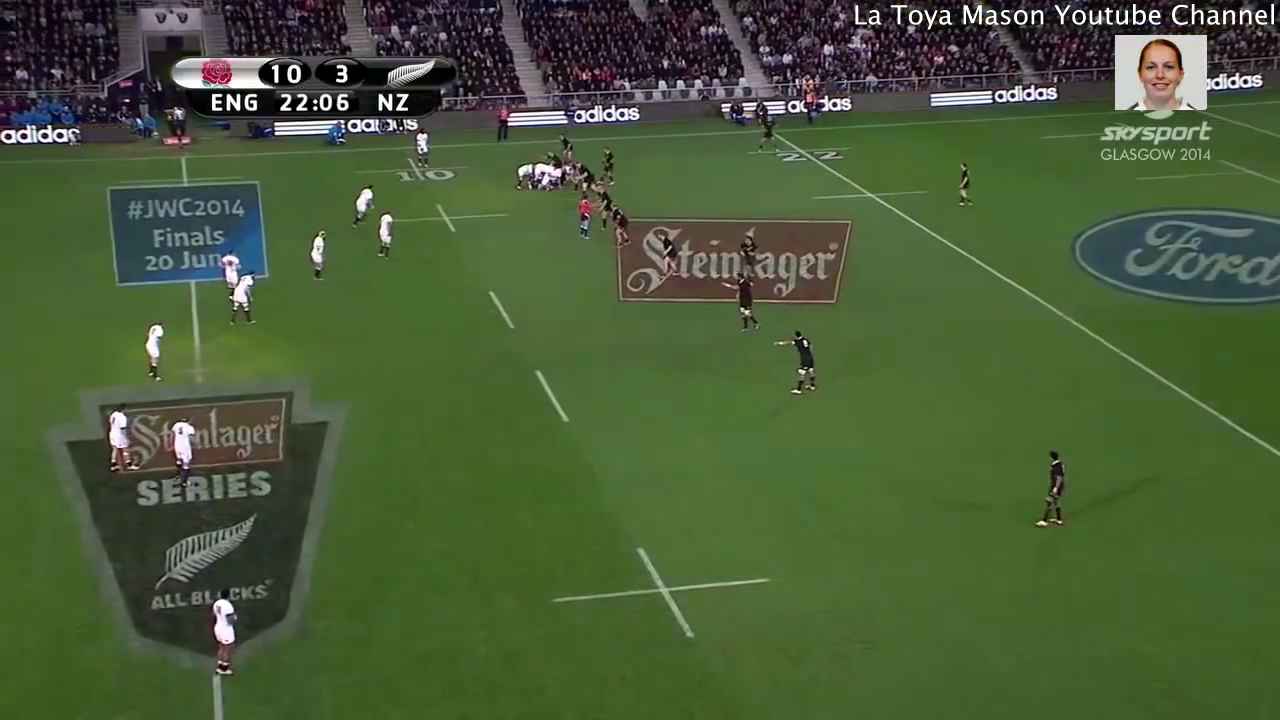10_metre: (544, 538, 782, 653), (380, 199, 511, 238), (357, 153, 474, 184)
player: (1027, 440, 1078, 536), (767, 324, 825, 406), (204, 584, 248, 682), (713, 267, 766, 335), (161, 406, 199, 495), (101, 398, 141, 476), (135, 315, 170, 381), (302, 221, 332, 290), (211, 241, 246, 299), (228, 265, 259, 329), (950, 156, 981, 214), (347, 180, 379, 232), (571, 191, 596, 243), (737, 233, 765, 279), (375, 208, 399, 261), (607, 202, 634, 249), (756, 111, 783, 157), (594, 142, 619, 189), (594, 184, 618, 232), (657, 231, 680, 280), (411, 128, 435, 172), (574, 159, 598, 195), (536, 167, 565, 192), (513, 161, 534, 190), (556, 131, 574, 159), (528, 165, 554, 181), (543, 152, 558, 162)
ruck: (508, 153, 602, 192)
